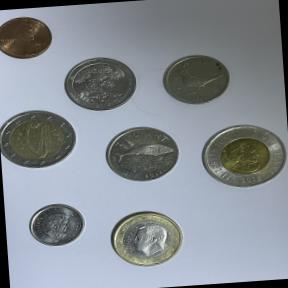coin: (190, 115, 288, 199), (102, 205, 190, 273), (99, 120, 185, 188), (0, 104, 80, 173), (59, 51, 143, 116), (24, 198, 89, 251), (0, 9, 59, 65)
